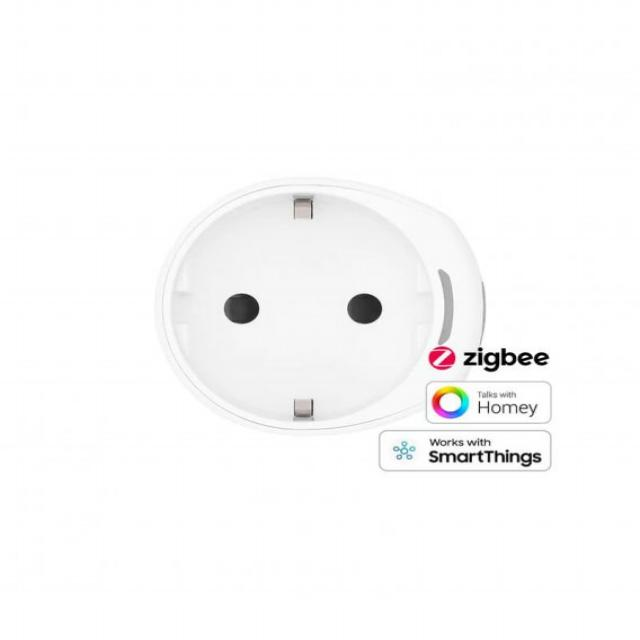typeb: (168, 179, 461, 415)
